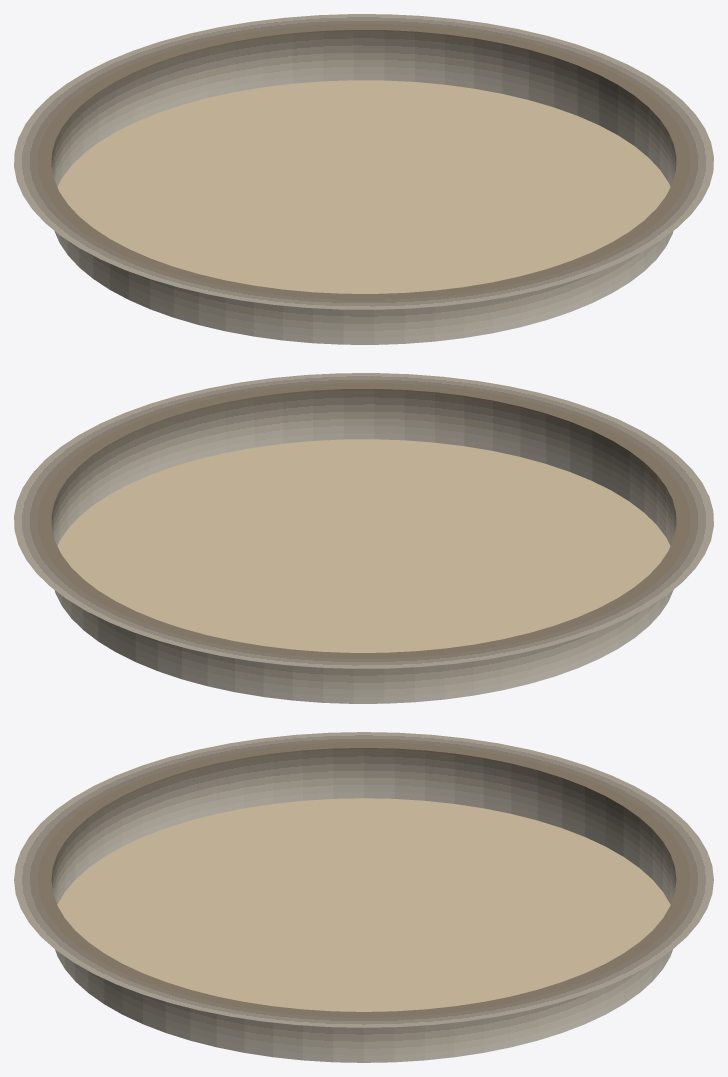
The model's file is energy_well.obj.
3 renders of one model, top to bottom at view 1: azimuth 30°, elevation 25°; view 2: azimuth 150°, elevation 25°; view 3: azimuth 270°, elevation 25°, orthographic.
Bounding box in the file's own units: 11.2 × 0.9 × 11.2.
